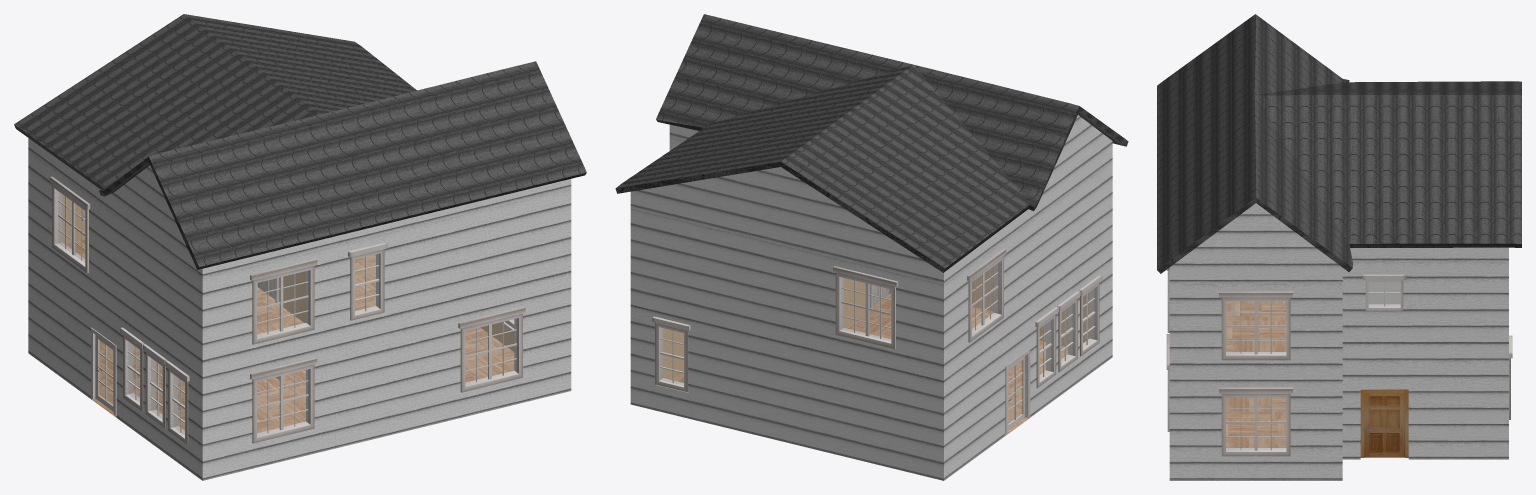
File: PSX_House2.glb
3 views of the same model, side by side, from view 1: azimuth 30°, elevation 25°; view 2: azimuth 150°, elevation 25°; view 3: azimuth 270°, elevation 25° (orthographic). The views are drawn at different scales.
Visible parts, largest first — view 1: Roof, Walls, Floor0, Window_Double.012, Window_Double.013, Window_Double.011, Window_Double.015, Window_Single.004, Floor1, Window_Single.002, Window_Single.005, Window_Single.006 (+2 smaller); view 2: Walls, Roof, Window_Double.014, Window_Double.015, Window_Single.003, Window_Single.006, Window_Single.002, Window_Single.005, Floor1, Door.014, Floor0, Door_Backyard.001; view 3: Roof, Walls, Window_Double.009, Window_Double.010, Floor0, Floor1, Door.008, Window_Bathroom.002, Main_Door.002.
Boxes of the visible parts, box(x1,y1,x2,y2) form: Roof: box(14, 14, 586, 278); Walls: box(28, 151, 571, 480); Floor0: box(100, 327, 514, 433); Window_Double.012: box(250, 357, 317, 443); Window_Double.013: box(250, 259, 317, 344); Window_Double.011: box(458, 307, 525, 392); Window_Double.015: box(49, 176, 90, 273); Window_Single.004: box(348, 242, 387, 320); Floor1: box(66, 239, 375, 334); Window_Single.002: box(165, 360, 189, 444); Window_Single.005: box(142, 344, 166, 427); Window_Single.006: box(120, 327, 144, 411); Walls: box(630, 137, 1112, 480); Roof: box(615, 14, 1128, 284); Window_Double.014: box(833, 266, 898, 348); Window_Double.015: box(967, 249, 1006, 342); Window_Single.003: box(652, 316, 690, 392); Window_Single.006: box(1035, 306, 1058, 388); Window_Single.002: box(1079, 275, 1102, 356); Window_Single.005: box(1057, 290, 1080, 372); Floor1: box(845, 293, 993, 338); Door.014: box(1008, 355, 1025, 429); Floor0: box(669, 340, 1067, 423); Door_Backyard.001: box(1005, 348, 1030, 433); Roof: box(1157, 14, 1521, 283); Walls: box(1169, 262, 1508, 480); Window_Double.009: box(1219, 387, 1292, 456); Window_Double.010: box(1219, 291, 1292, 360); Floor0: box(1226, 397, 1286, 447); Floor1: box(1226, 301, 1286, 351); Door.008: box(1364, 393, 1404, 457); Window_Bathroom.002: box(1362, 274, 1406, 310); Main_Door.002: box(1360, 389, 1408, 457).
Bounding box in the file's own units: 11.61 × 8.41 × 9.68.
Materials: 4 (4 with a texture image).
